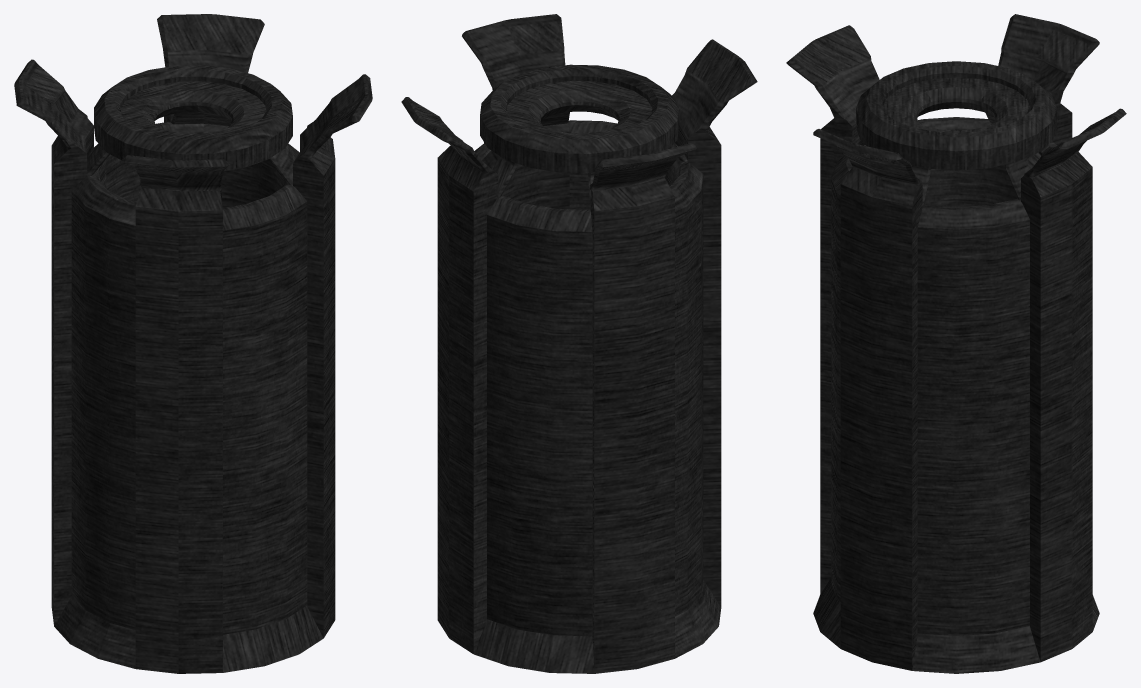
Rendered from trashcan.fbx.
3 renders of one model, left to right at view 1: azimuth 30°, elevation 25°; view 2: azimuth 150°, elevation 25°; view 3: azimuth 270°, elevation 25°, orthographic.
Visible parts, largest first — view 1: pCylinder61; view 2: pCylinder61; view 3: pCylinder61.
Boxes of the visible parts, x1=… form: pCylinder61: x1=14, y1=14, x2=372, y2=673; pCylinder61: x1=401, y1=14, x2=757, y2=673; pCylinder61: x1=786, y1=14, x2=1126, y2=673.
Bounding box in the file's own units: 1.4 × 2.4 × 1.4.
1 material, 1 textured.
